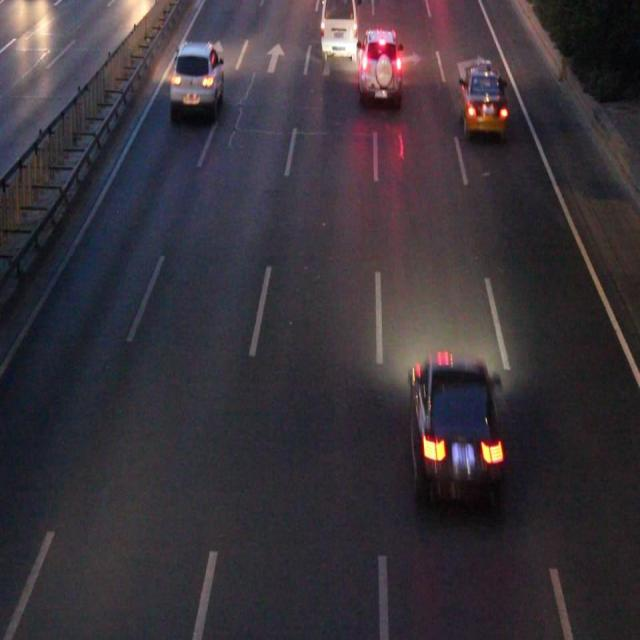car: (410, 356, 500, 498), (170, 44, 223, 112), (357, 32, 401, 94), (459, 72, 503, 130)
truck: (318, 1, 356, 59)
